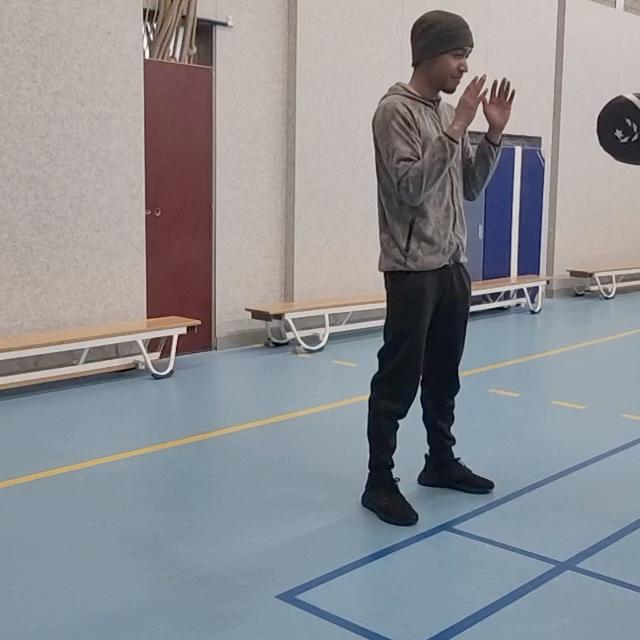paddle: (590, 87, 640, 180)
